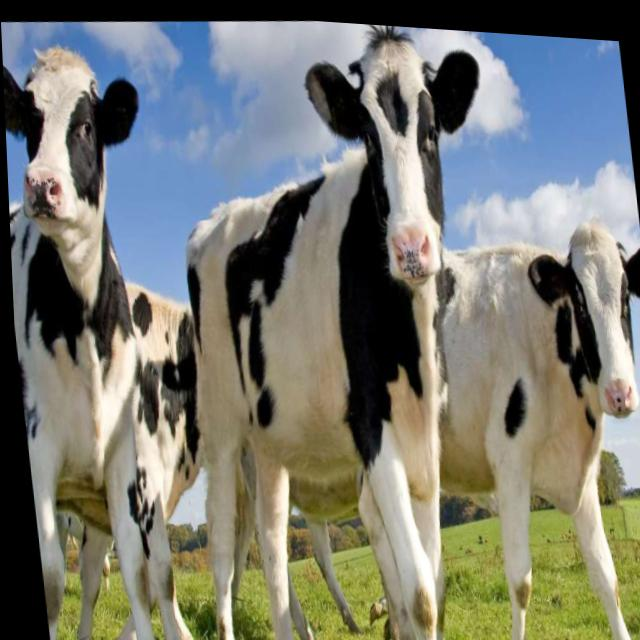cowFace: (295, 15, 504, 300), (1, 32, 157, 244), (516, 206, 640, 427)
